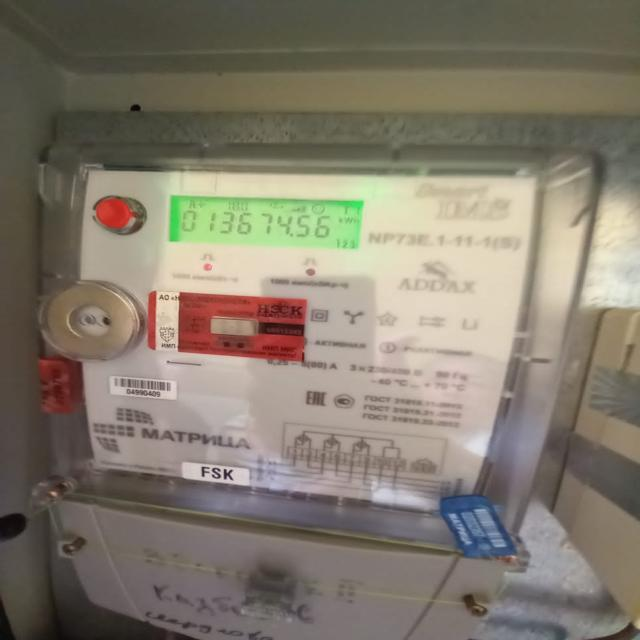Display: (167, 196, 369, 252)
meter_matrica: (46, 148, 551, 614)
meter_number: (108, 375, 181, 403)
seal_elso: (231, 563, 312, 623)
seal_imp: (148, 291, 309, 362)
